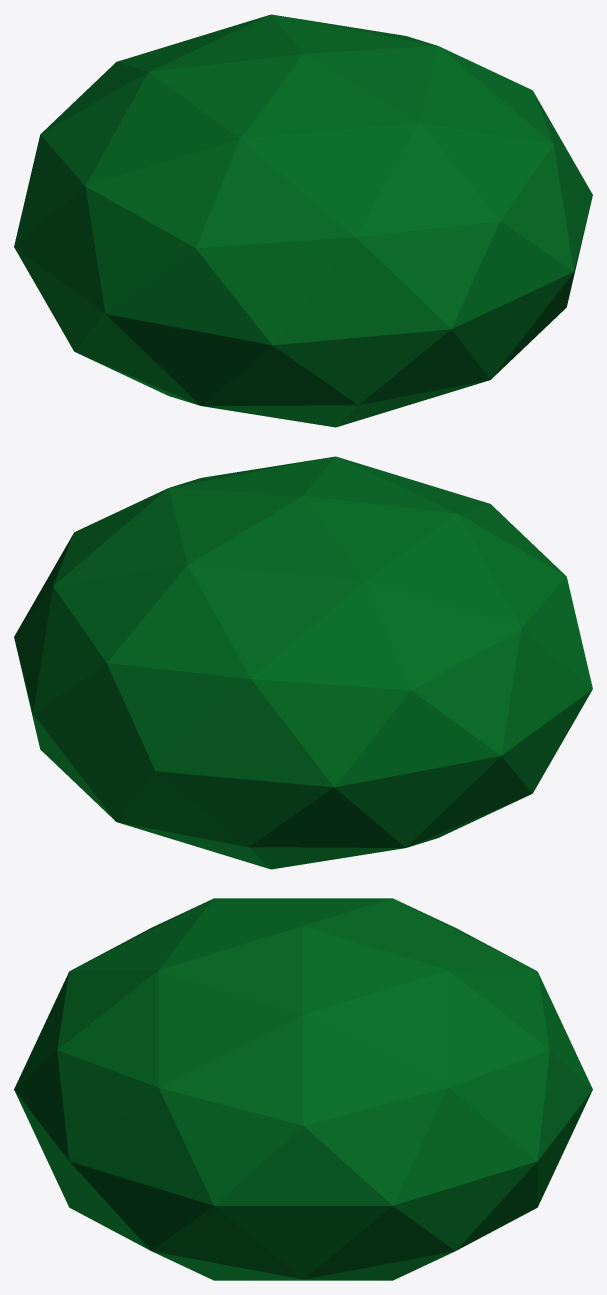
File: Bush.000.fbx
The picture shows the model from 3 angles, top to bottom: view 1: azimuth 30°, elevation 25°; view 2: azimuth 150°, elevation 25°; view 3: azimuth 270°, elevation 25°; orthographic projection. The views are drawn at different scales.
Parts seen in each view (by area): view 1: Bush.001; view 2: Bush.001; view 3: Bush.001.
Part boxes in pixels (x1,y1,x2,y2): Bush.001: (14, 14, 592, 427); Bush.001: (14, 456, 592, 869); Bush.001: (14, 898, 592, 1280).
Bounding box in the file's own units: 95.81 × 62.79 × 101.
